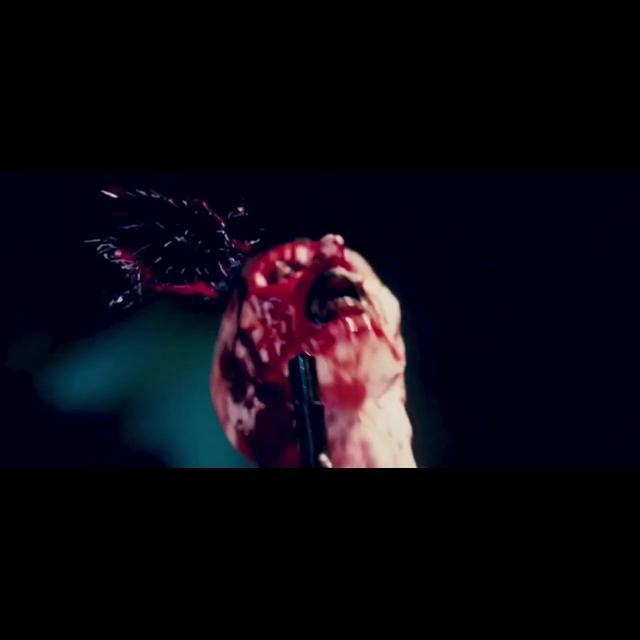blood: (211, 234, 406, 468), (83, 186, 266, 312)
